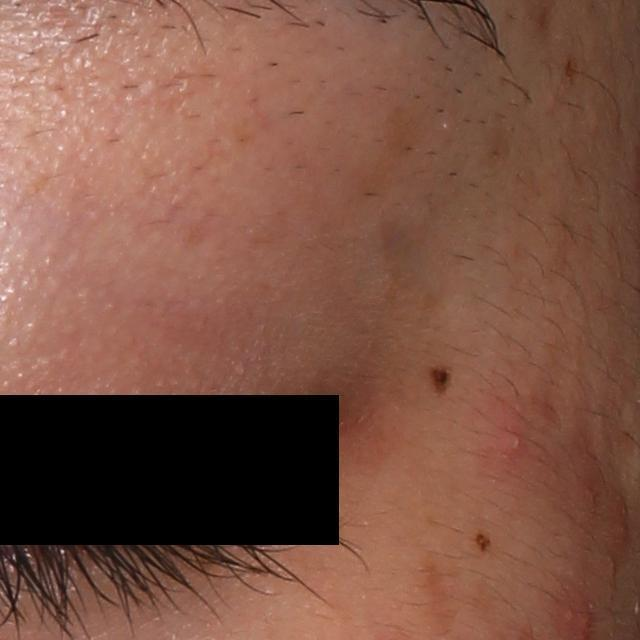melasma: (353, 101, 415, 203)
nevus: (424, 357, 451, 392), (471, 526, 494, 556)
